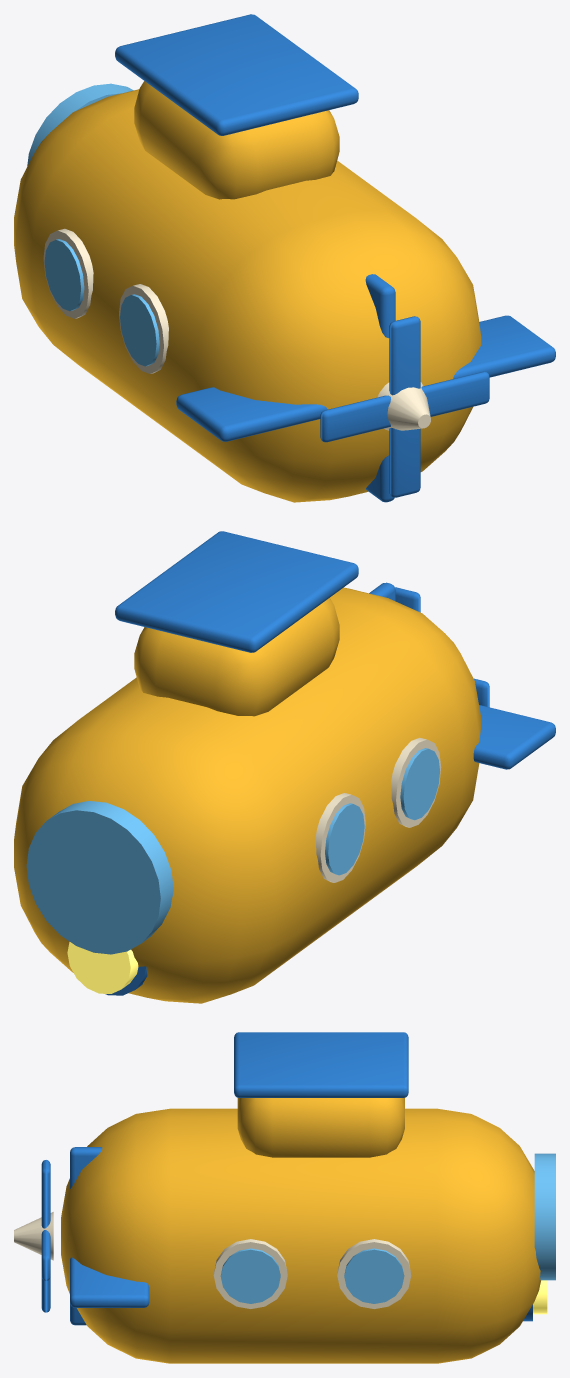
3 views of the same model, one above another, from view 1: azimuth 30°, elevation 25°; view 2: azimuth 150°, elevation 25°; view 3: azimuth 270°, elevation 25° (orthographic). The views are drawn at different scales.
Visible parts, largest first — view 1: body, propeller; view 2: body, light, propeller; view 3: body, propeller, light.
Boxes of the visible parts, left/top/right/bottom form: body: left=14, top=14, right=555, bottom=502; propeller: left=320, top=316, right=489, bottom=497; body: left=14, top=531, right=555, bottom=1003; light: left=67, top=942, right=147, bottom=995; propeller: left=395, top=587, right=489, bottom=707; body: left=61, top=1032, right=555, bottom=1363; propeller: left=14, top=1160, right=53, bottom=1312; light: left=523, top=1280, right=547, bottom=1321.
Size of the model in its own units: 1.8 by 1.8 by 3.07.
